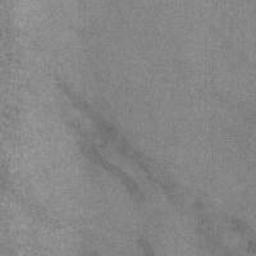Water spot: (52, 70, 256, 256)
